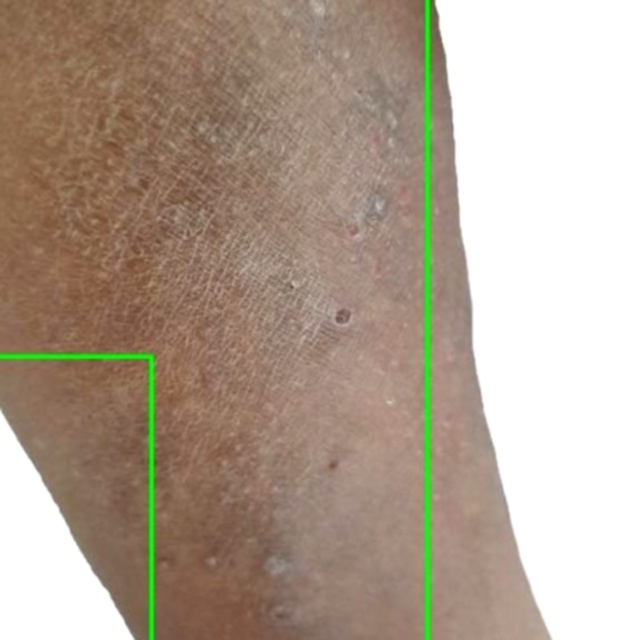Contact Dermatitis: (427, 0, 639, 639), (0, 356, 151, 639)
